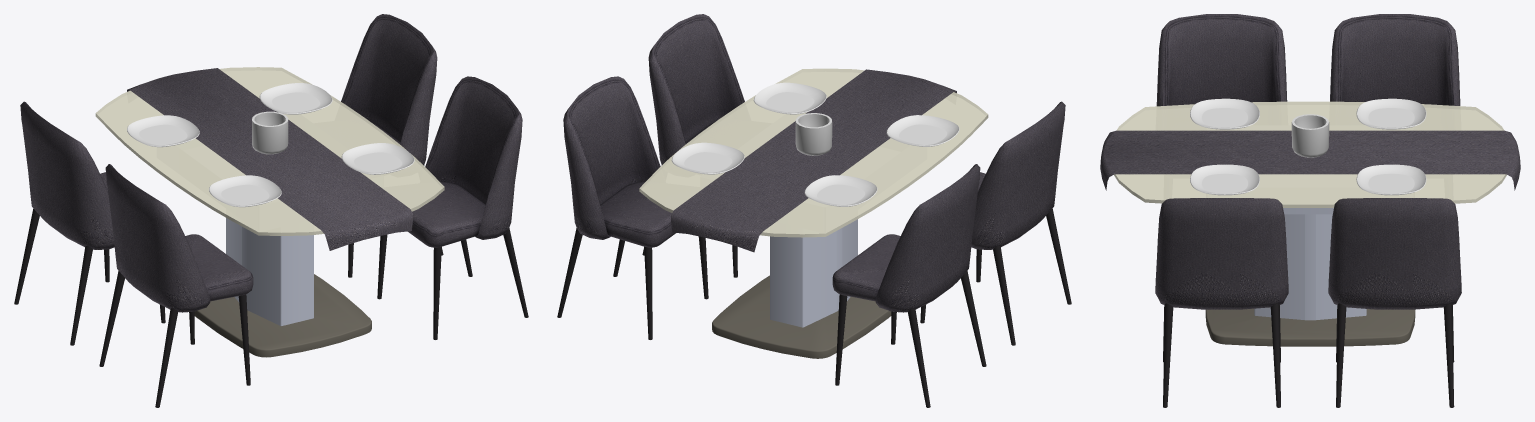
File: Four_Seater_Dining_Table_02.fbx
3 renders of one model, left to right at view 1: azimuth 30°, elevation 25°; view 2: azimuth 150°, elevation 25°; view 3: azimuth 270°, elevation 25°, orthographic.
Visible parts, largest first — view 1: 4_Seater; view 2: 4_Seater; view 3: 4_Seater.
Boxes of the visible parts, x1,y1,x2,y2 form: 4_Seater: (14,14,528,407); 4_Seater: (557,14,1071,407); 4_Seater: (1100,14,1520,407).
Size of the model in its own units: 183 by 95.57 by 174.
5 materials, 1 textured.
